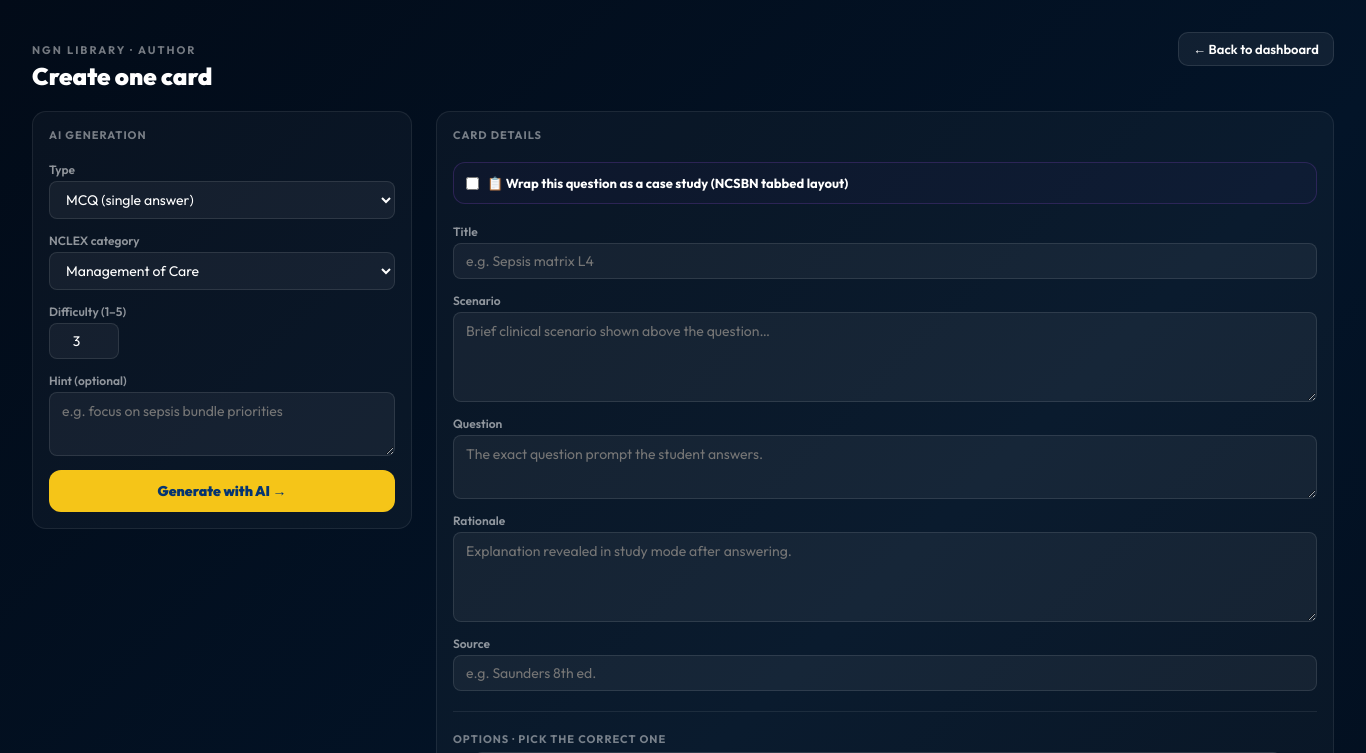
NGNCreateScreen › Generate button populates the fields from the AI response
Select "Matrix" in the dropdown named "Question type": (222, 200) [49, 181, 395, 219]
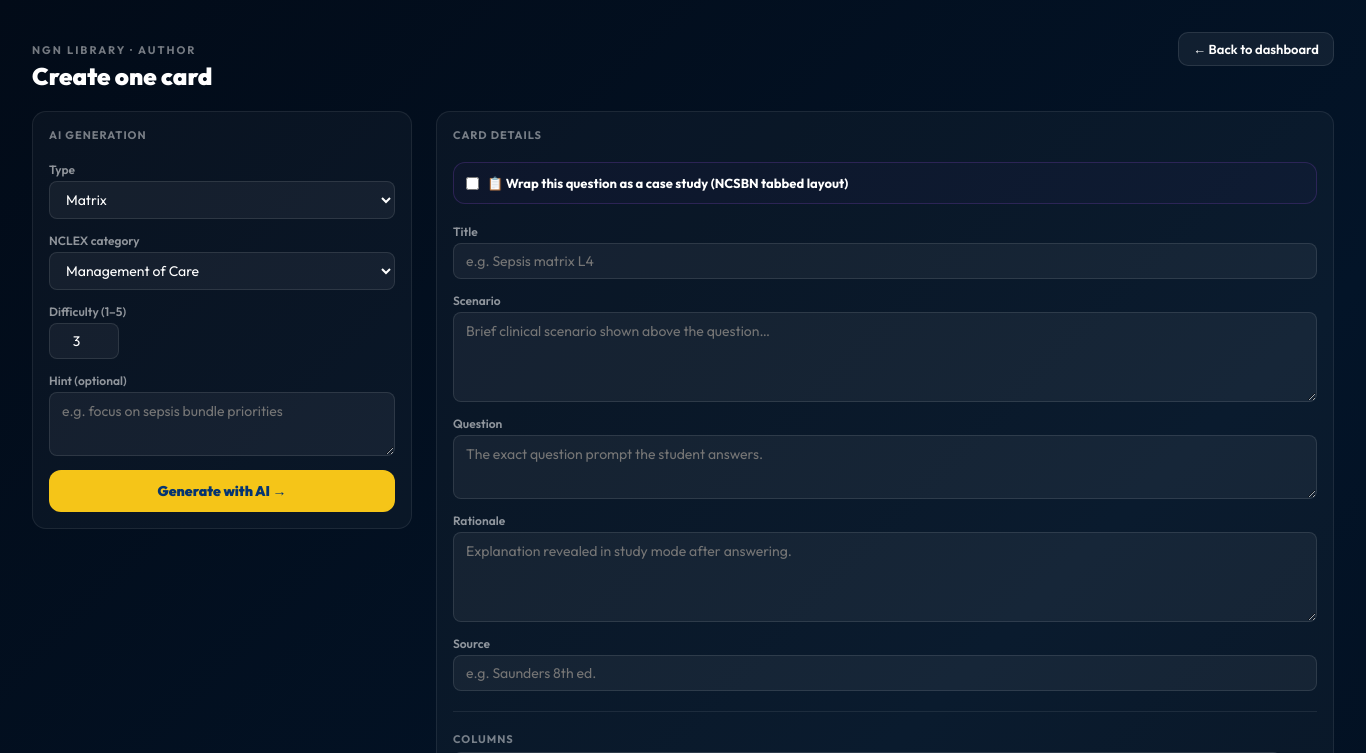
Click the button "Generate with AI →": (222, 491) [49, 470, 395, 512]
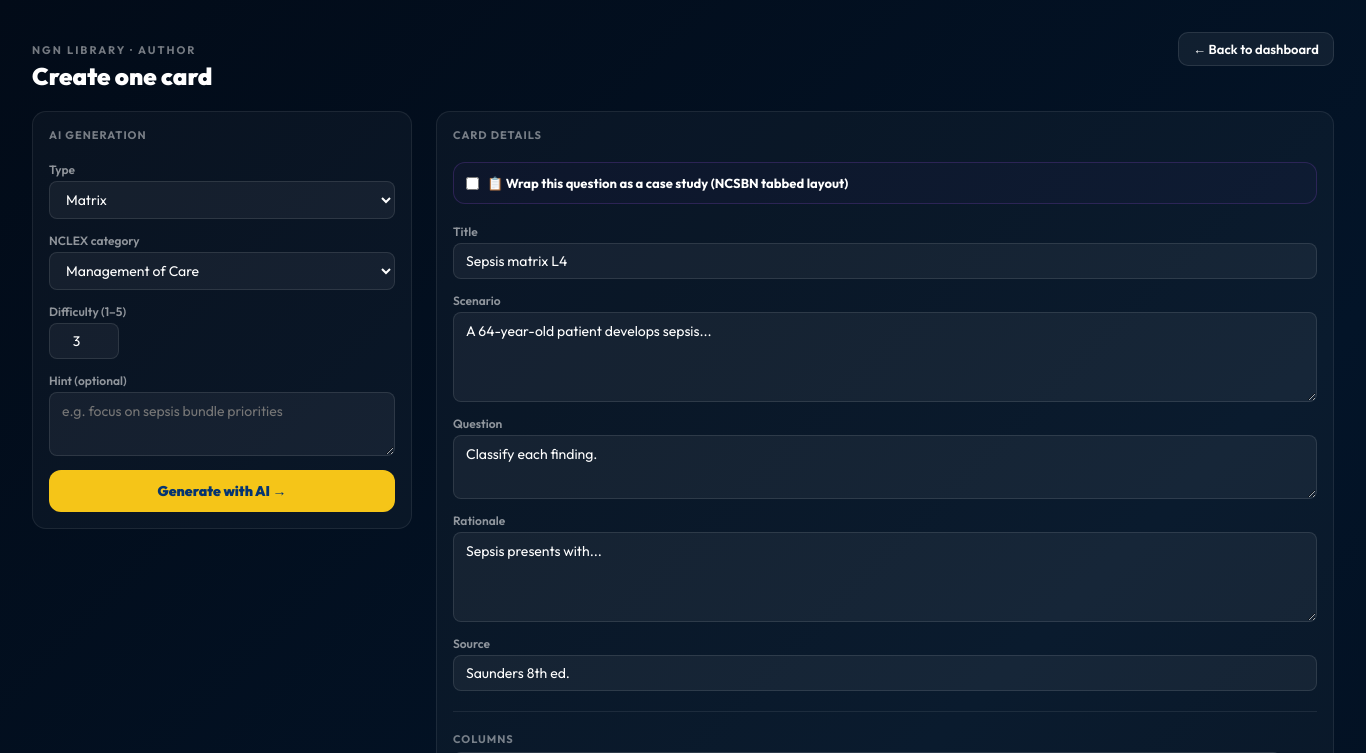
expect the field named "Card title" holds "Sepsis matrix L4": met, box [453, 243, 1317, 279]
